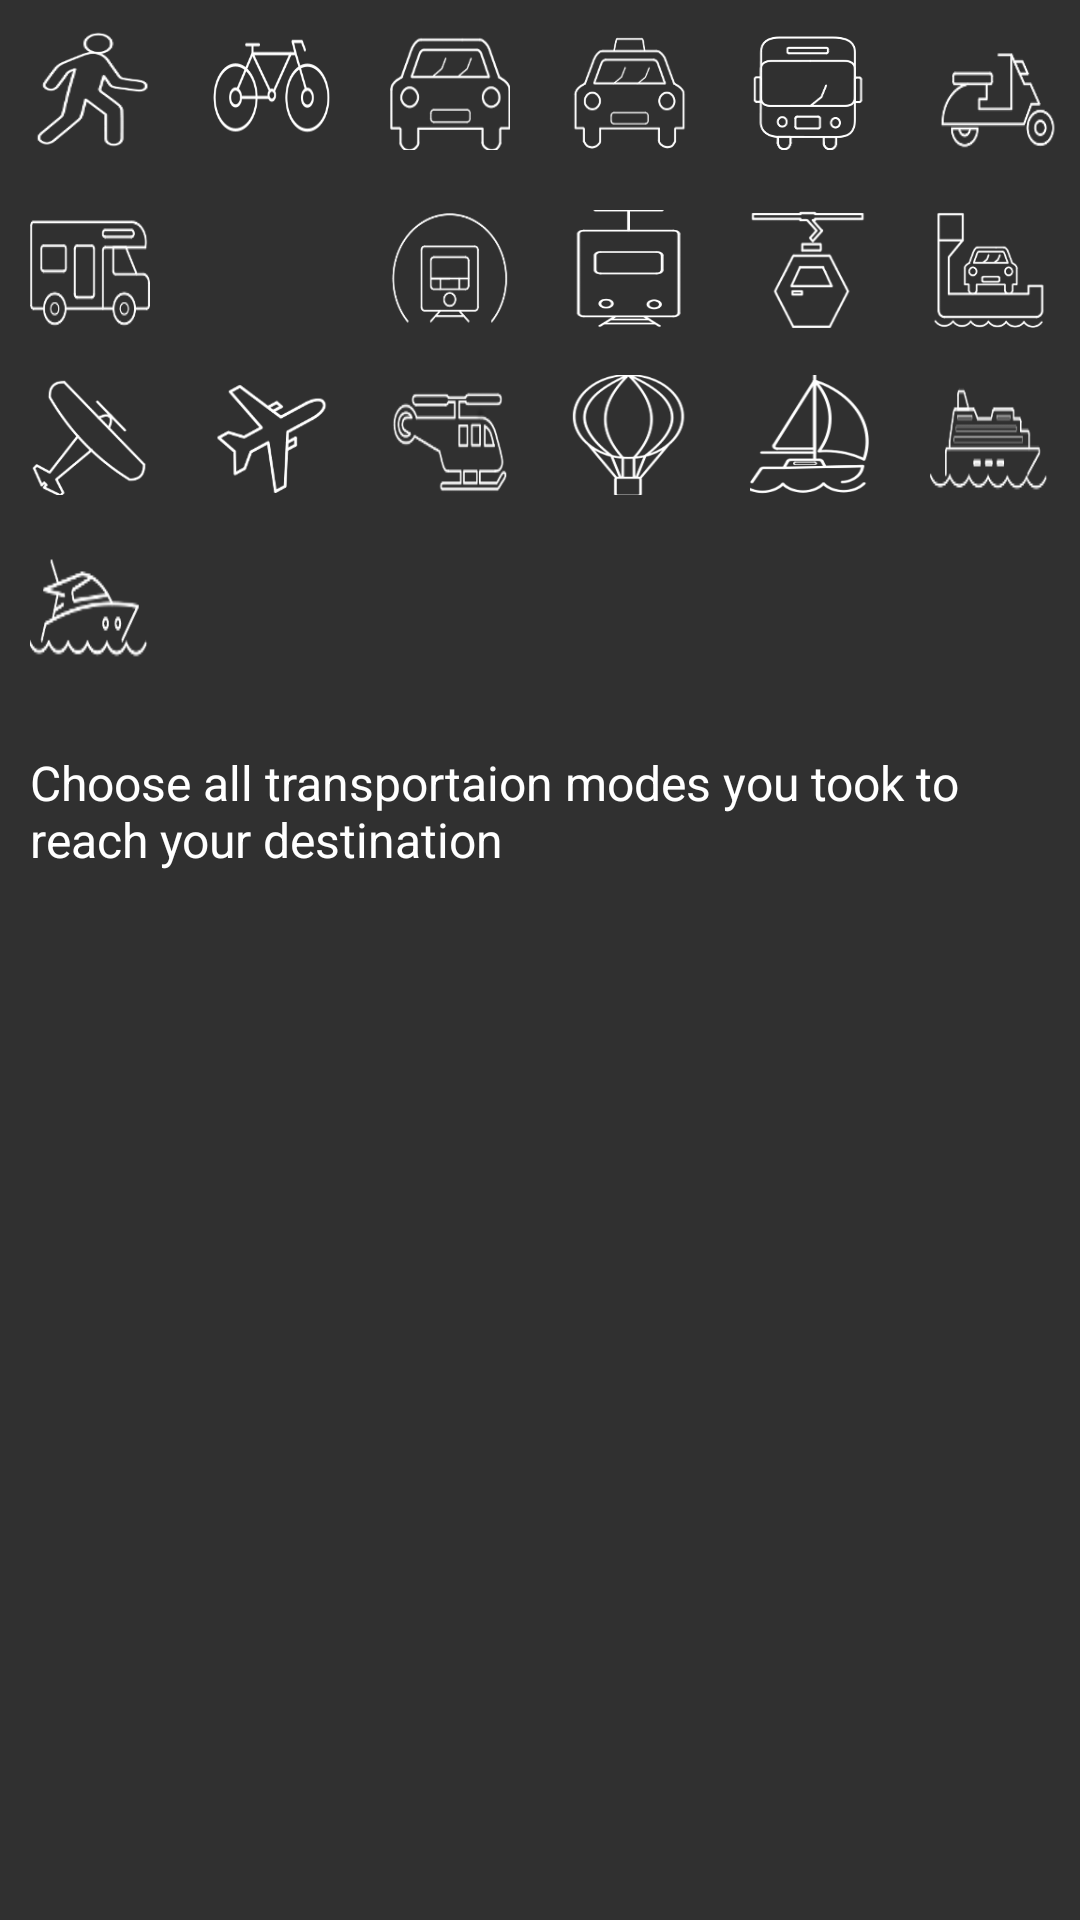

Icons on this 1080*1920 Android screen, each with its box as [x1=x1, y1=y1, x2=x2, y2=y2]:
aeroplane transport: [x1=217, y1=385, x2=326, y2=493]
airballoon transport: [x1=572, y1=375, x2=685, y2=495]
bike transport: [x1=941, y1=53, x2=1055, y2=148]
boat transport: [x1=30, y1=559, x2=147, y2=657]
bus transport: [x1=753, y1=36, x2=863, y2=150]
cablecar transport: [x1=751, y1=211, x2=864, y2=328]
campervan transport: [x1=30, y1=220, x2=150, y2=326]
cruiseship transport: [x1=930, y1=389, x2=1047, y2=490]
cycle transport: [x1=213, y1=39, x2=330, y2=132]
drive transport: [x1=390, y1=38, x2=510, y2=150]
ferry transport: [x1=934, y1=213, x2=1044, y2=328]
helicopter transport: [x1=393, y1=393, x2=507, y2=491]
hiredcar transport: [x1=574, y1=38, x2=685, y2=149]
metro transport: [x1=576, y1=210, x2=681, y2=327]
sailboat transport: [x1=750, y1=375, x2=869, y2=493]
seaplane transport: [x1=32, y1=380, x2=146, y2=495]
underground transport: [x1=392, y1=213, x2=508, y2=323]
walk transport: [x1=37, y1=33, x2=148, y2=146]
